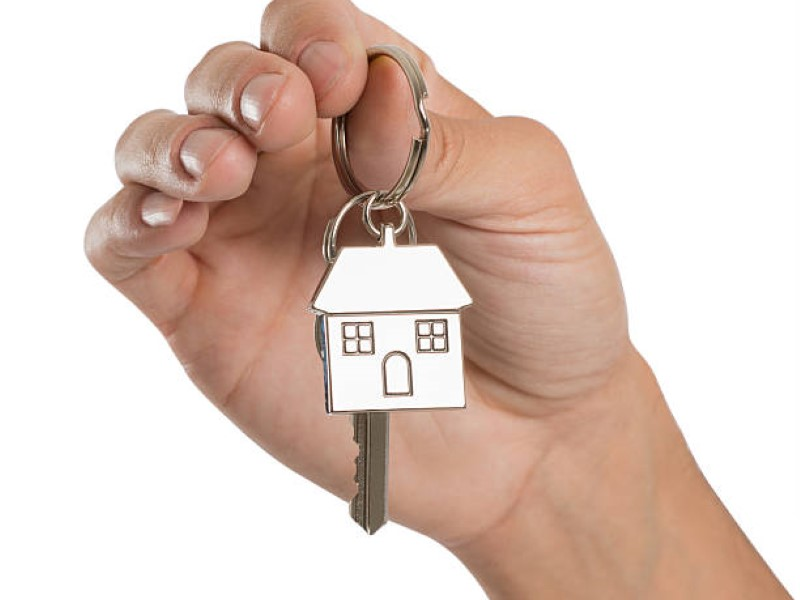key: (314, 219, 404, 538)
